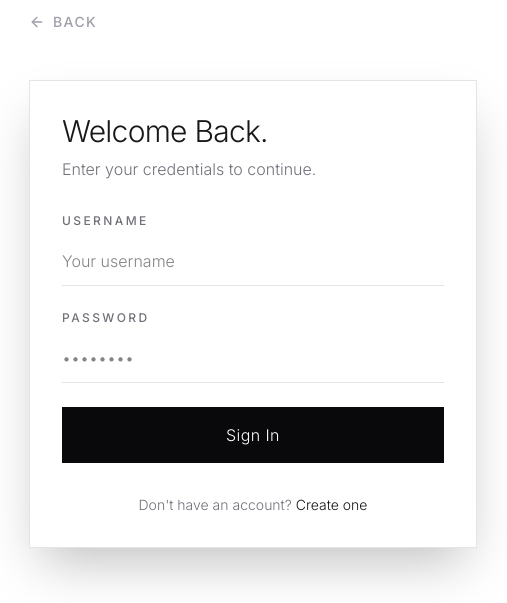
Scenario: Login component › disables the submit button while loading
This screenshot has width=507, height=603.
Type "traveler" into the field with placeholder "Your username".
click(253, 262); type("traveler")  # box [62, 237, 444, 286]
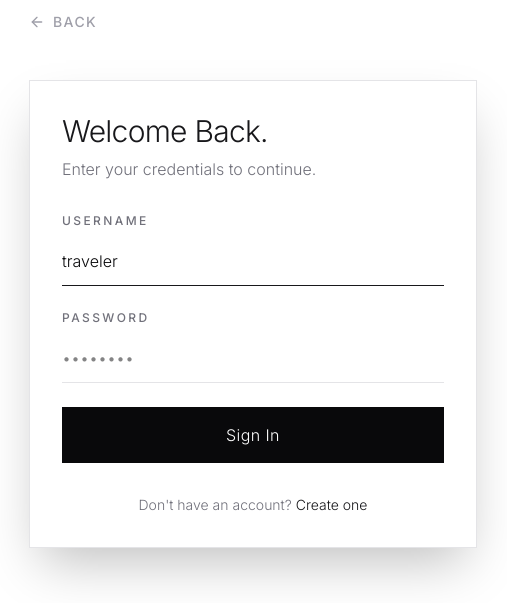
Type "pass" into the password field with placeholder "••••••••".
click(253, 358); type("pass")  # box [62, 334, 444, 383]
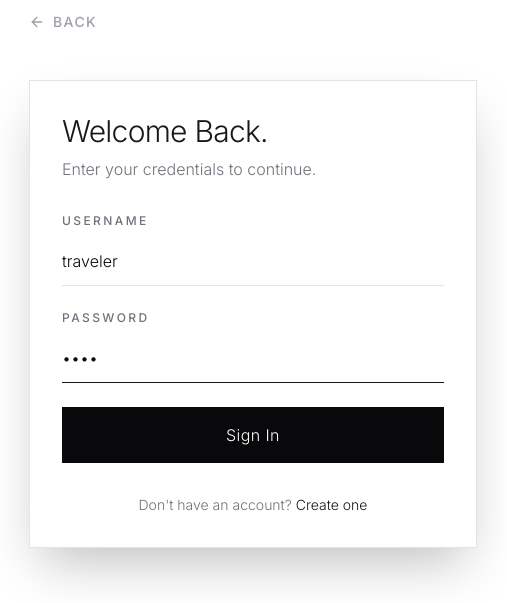
Click submit before loading starts (button shows "Sign In" at this point)
Click the submit button.
click(253, 435)  # box [62, 407, 444, 463]
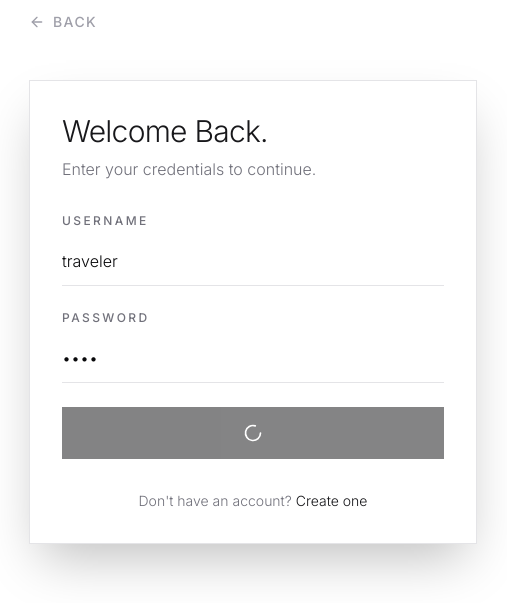
Check: the submit button is disabled, box [62, 407, 444, 459]
